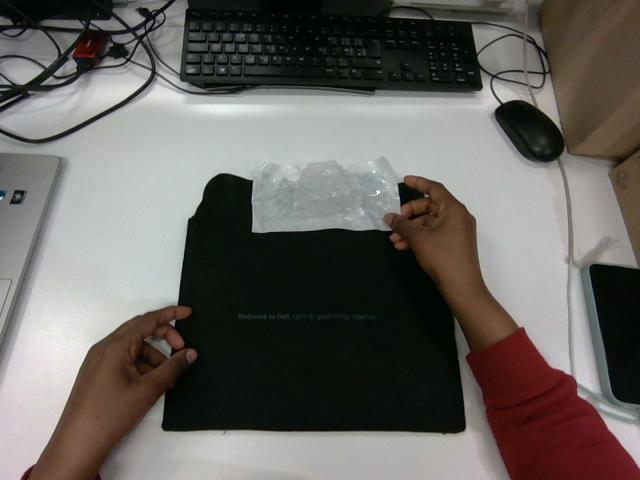gallipot: (252, 157, 399, 232)
